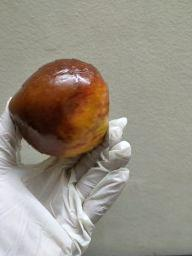Apple Rotten: (13, 59, 110, 168)
